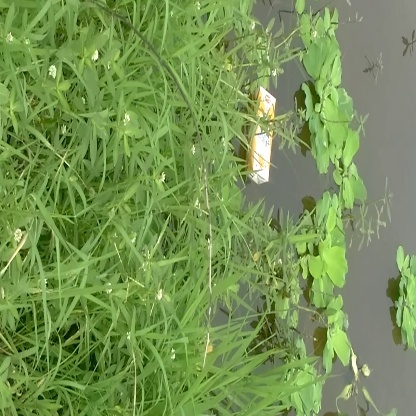milk-box: (241, 85, 286, 187)
